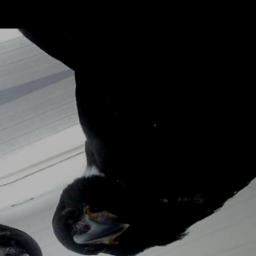Crow: (0, 29, 256, 256)
